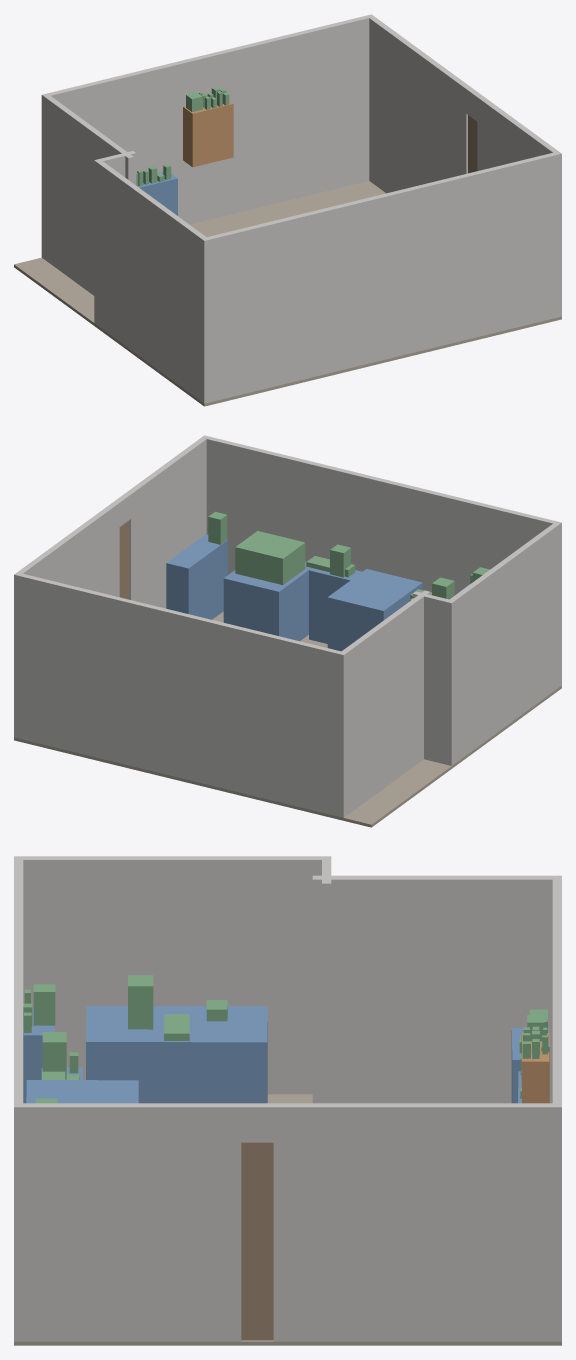
The model's file is room_086.glb.
3 renders of one model, top to bottom at view 1: azimuth 30°, elevation 25°; view 2: azimuth 150°, elevation 25°; view 3: azimuth 270°, elevation 25°, orthographic. The views are drawn at different scales.
Visible parts, largest first — view 1: shell_wall_5_s0, shell_wall_1_s0, shell_wall_4_s0, shell_wall_0_s2, shell_wall_2_s0, shell_floor, shell_wall_0_s0, obj_049, obj_023, shell_wall_3_s0, shell_wall_0_door; view 2: shell_wall_1_s0, shell_wall_5_s0, shell_wall_4_s0, shell_wall_2_s0, shell_wall_0_s0, shell_wall_0_s2, shell_wall_3_s0, obj_045, obj_048, shell_floor, obj_006, obj_010 (+4 smaller); view 3: shell_wall_0_s2, shell_wall_0_s0, shell_wall_2_s0, shell_wall_4_s0, obj_004, shell_wall_0_door, shell_wall_5_s0, shell_floor, shell_wall_1_s0, obj_048, shell_wall_3_s0, obj_049 (+7 smaller).
Boxes of the visible parts, left/top/right/bottom form: shell_wall_5_s0: left=201, top=151, right=561, bottom=403; shell_wall_1_s0: left=41, top=15, right=373, bottom=259; shell_wall_4_s0: left=94, top=159, right=209, bottom=403; shell_wall_0_s2: left=367, top=14, right=471, bottom=193; shell_wall_2_s0: left=41, top=94, right=133, bottom=295; shell_floor: left=14, top=181, right=561, bottom=406; shell_wall_0_s0: left=477, top=96, right=561, bottom=316; obj_049: left=183, top=101, right=233, bottom=167; obj_023: left=138, top=171, right=177, bottom=215; shell_wall_3_s0: left=94, top=151, right=136, bottom=323; shell_wall_0_door: left=468, top=115, right=477, bottom=173; shell_wall_1_s0: left=14, top=573, right=346, bottom=817; shell_wall_5_s0: left=204, top=435, right=561, bottom=687; shell_wall_4_s0: left=446, top=521, right=561, bottom=765; shell_wall_2_s0: left=338, top=590, right=430, bottom=817; shell_wall_0_s0: left=125, top=435, right=209, bottom=608; shell_wall_0_s2: left=14, top=501, right=119, bottom=737; shell_wall_3_s0: left=413, top=591, right=454, bottom=765; obj_045: left=223, top=561, right=311, bottom=641; obj_048: left=327, top=569, right=422, bottom=651; shell_floor: left=14, top=611, right=561, bottom=827; obj_006: left=166, top=534, right=227, bottom=619; obj_010: left=235, top=531, right=305, bottom=584; shell_wall_0_s2: left=273, top=1103, right=561, bottom=1341; shell_wall_0_s0: left=14, top=1103, right=241, bottom=1341; shell_wall_2_s0: left=312, top=875, right=561, bottom=1103; shell_wall_4_s0: left=14, top=856, right=330, bottom=1094; obj_004: left=86, top=1006, right=267, bottom=1103; shell_wall_0_door: left=241, top=1142, right=273, bottom=1340; shell_wall_5_s0: left=14, top=856, right=23, bottom=1341; shell_floor: left=14, top=1094, right=561, bottom=1345; shell_wall_1_s0: left=552, top=875, right=561, bottom=1341; obj_048: left=26, top=1080, right=138, bottom=1103; shell_wall_3_s0: left=322, top=856, right=331, bottom=1103; obj_049: left=522, top=1032, right=549, bottom=1103.
Bounding box in the file's own units: 6.44 × 2.85 × 5.94.
